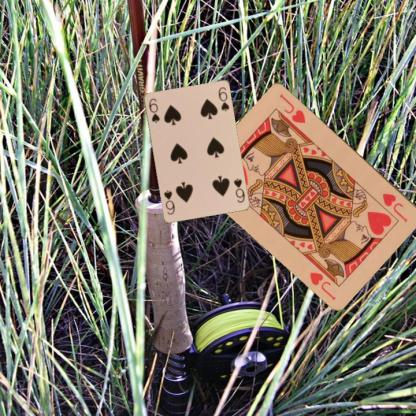6s: (146, 95, 161, 124), (231, 176, 246, 204)
Jh: (380, 190, 410, 224)
